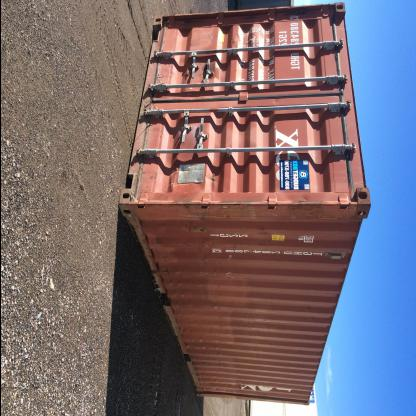Damage: (170, 262, 214, 310), (181, 326, 224, 361), (289, 191, 330, 226), (172, 210, 208, 243), (221, 239, 242, 285)
